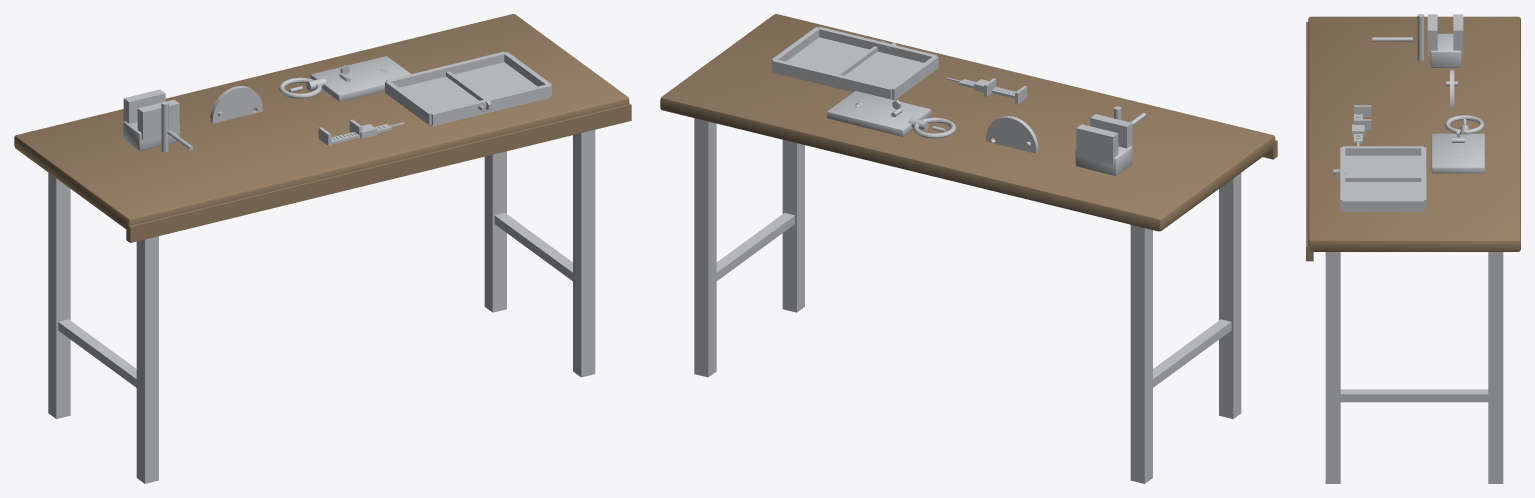
File: tezgah.glb
3 renders of one model, left to right at view 1: azimuth 30°, elevation 25°; view 2: azimuth 150°, elevation 25°; view 3: azimuth 270°, elevation 25°, orthographic. The views are drawn at different scales.
Visible parts, largest first — view 1: tezgah_yuzeyi, tezgah_ayak_sol, tezgah_ayak_sag, olcu_aletleri_tepsisi, mengene, egzersiz_plakasi, flans_civata_flansi, mikrometre; view 2: tezgah_yuzeyi, tezgah_ayak_sol, tezgah_ayak_sag, olcu_aletleri_tepsisi, mengene, egzersiz_plakasi, flans_civata_flansi, mikrometre; view 3: tezgah_yuzeyi, tezgah_ayak_sag, olcu_aletleri_tepsisi, mengene, egzersiz_plakasi, mikrometre, kumpas_cene, kumpas.
Part boxes in pixels (<box>): tezgah_yuzeyi: <box>14,14,631,242</box>; tezgah_ayak_sol: <box>48,173,158,483</box>; tezgah_ayak_sag: <box>484,130,595,377</box>; olcu_aletleri_tepsisi: <box>385,51,551,126</box>; mengene: <box>123,89,193,152</box>; egzersiz_plakasi: <box>310,56,411,101</box>; flans_civata_flansi: <box>210,86,262,123</box>; mikrometre: <box>279,77,326,98</box>; tezgah_yuzeyi: <box>660,14,1277,231</box>; tezgah_ayak_sol: <box>1130,173,1241,483</box>; tezgah_ayak_sag: <box>694,118,804,377</box>; olcu_aletleri_tepsisi: <box>771,26,938,100</box>; mengene: <box>1075,106,1146,175</box>; egzersiz_plakasi: <box>827,91,931,136</box>; flans_civata_flansi: <box>986,116,1038,153</box>; mikrometre: <box>908,117,955,138</box>; tezgah_yuzeyi: <box>1306,16,1520,261</box>; tezgah_ayak_sag: <box>1325,252,1503,483</box>; olcu_aletleri_tepsisi: <box>1340,146,1426,211</box>; mengene: <box>1372,14,1463,67</box>; egzersiz_plakasi: <box>1431,133,1484,173</box>; mikrometre: <box>1445,115,1484,134</box>; kumpas_cene: <box>1354,105,1371,130</box>; kumpas: <box>1352,114,1364,146</box>.
Size of the model in its own units: 1.7 by 1.06 by 0.687.
